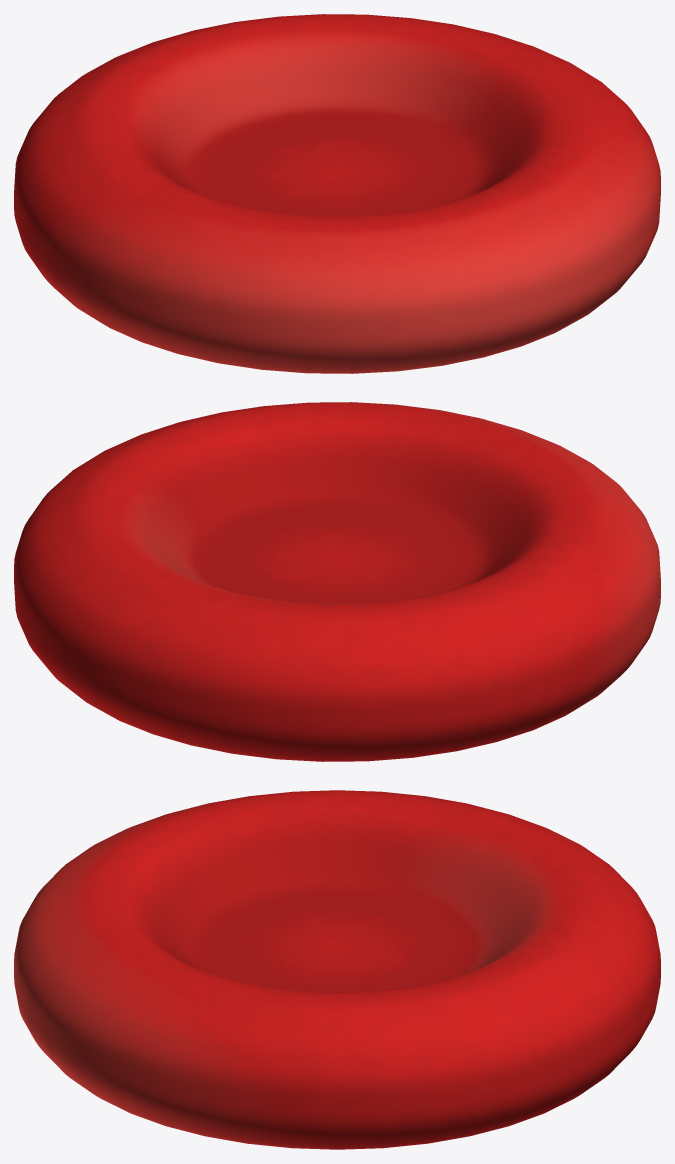
The model's file is cell01.fbx.
3 views of the same model, one above another, from view 1: azimuth 30°, elevation 25°; view 2: azimuth 150°, elevation 25°; view 3: azimuth 270°, elevation 25° (orthographic).
Visible parts, largest first — view 1: red_cell2; view 2: red_cell2; view 3: red_cell2.
Part boxes in pixels (left/top/right/bottom): red_cell2: left=14, top=14, right=660, bottom=373; red_cell2: left=14, top=402, right=660, bottom=761; red_cell2: left=14, top=790, right=660, bottom=1149.
Bounding box in the file's own units: 14.99 × 3.39 × 14.99.
